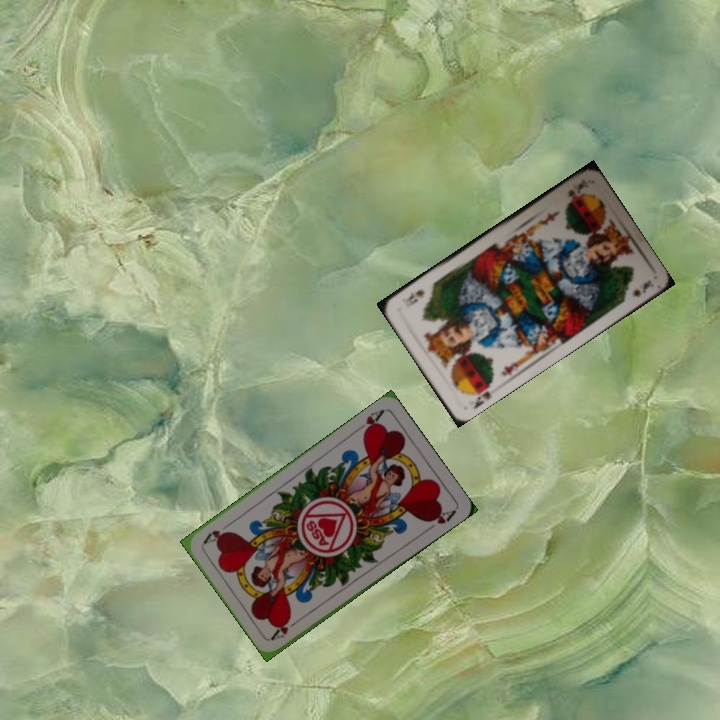HA: (351, 405, 387, 437), (267, 614, 304, 642)
SK: (468, 378, 494, 412), (563, 179, 585, 202)
